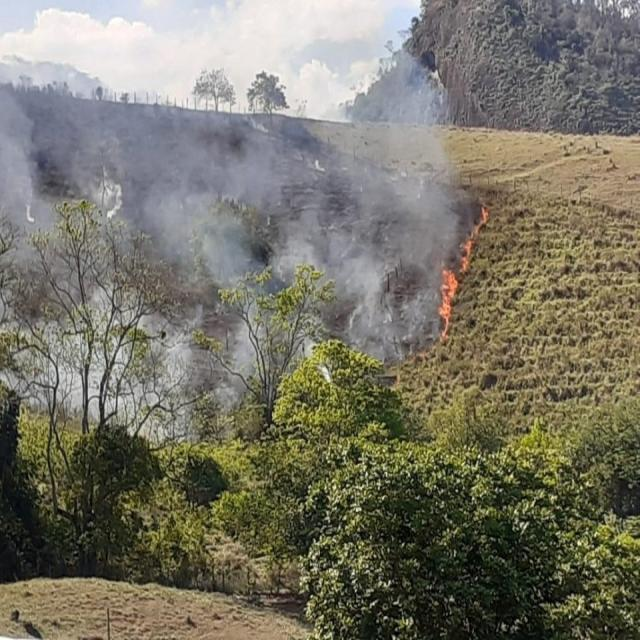Fire: (461, 199, 495, 269), (439, 263, 457, 339)
Smoke: (0, 59, 205, 432), (216, 45, 439, 342)
